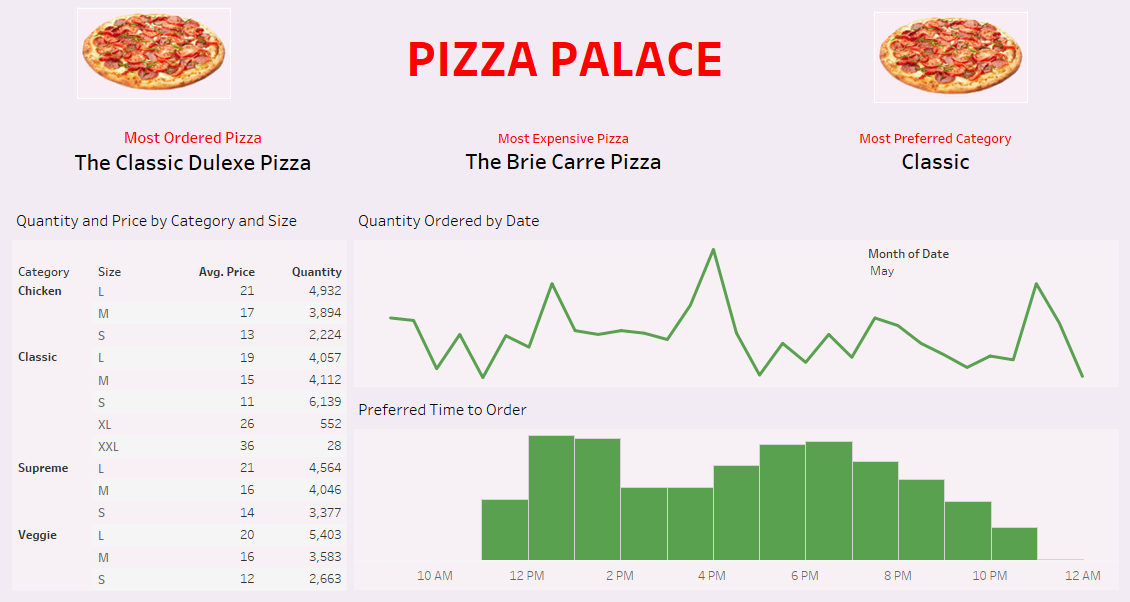

The dashboard page shown, as its layout file describes it:
{"tool":"tableau","page":{"name":"Dashboard 2","canvas":[1000,1000],"units":"permille","ordinal":1},"visuals":[{"type":"image","param":"C:/Users/USER/AppData/Local/Temp/TableauTemp/18rxjlr1di28zg11pfrg41o0tshz/Sheets","box":[32.7,11.6,207.1,152.8]},{"type":"title","box":[7.1,13.3,985.8,212.6]},{"type":"image","param":"C:/Users/USER/Desktop/Pizza+Place+Sales/FREE PIZZA IMAGE2.jfif","box":[738.1,18.3,207.1,152.8]},{"type":"text","box":[7.1,225.9,325.4,111.3]},{"type":"text","box":[332.5,225.9,330.2,126.1]},{"type":"text","box":[662.7,225.9,330.2,126.1]},{"type":"worksheet","title":"Number of Qty by Category","mark":"Automatic","rows":["category","size"],"box":[7.1,352,325.6,634.7]},{"type":"worksheet","title":"Qty Ordered by Date","mark":"Automatic","rows":["quantity"],"cols":["date"],"box":[332.7,352,660.2,317.3]},{"type":"filter","title":"Qty Ordered by Date","param":"[federated.1l5cve71eoihbf1e111ok1o94rhi].[mn:date:ok]","box":[768.1,405.3,131.9,74.8]},{"type":"worksheet","title":"Preferred Time to Order","mark":"Bar","rows":["order_id (orders.csv)"],"cols":["time"],"box":[332.7,669.4,660.2,317.4]}]}

Visuals, with their boxes on the dashboard's canvas, which has no fixed pixel size, in thousandths of its width and height (x1, y1, x2, y2). These are canvas units, not pixel positions in the 1130x602 screenshot, which may show the page scaled, cropped or inside an application window:
image: (x1=33, y1=12, x2=240, y2=164)
title: (x1=7, y1=13, x2=993, y2=226)
image: (x1=738, y1=18, x2=945, y2=171)
text: (x1=7, y1=226, x2=332, y2=337)
text: (x1=332, y1=226, x2=663, y2=352)
text: (x1=663, y1=226, x2=993, y2=352)
"Number of Qty by Category" worksheet: (x1=7, y1=352, x2=333, y2=987)
"Qty Ordered by Date" worksheet: (x1=333, y1=352, x2=993, y2=669)
"Qty Ordered by Date" filter: (x1=768, y1=405, x2=900, y2=480)
"Preferred Time to Order" worksheet (Bar marks): (x1=333, y1=669, x2=993, y2=987)
